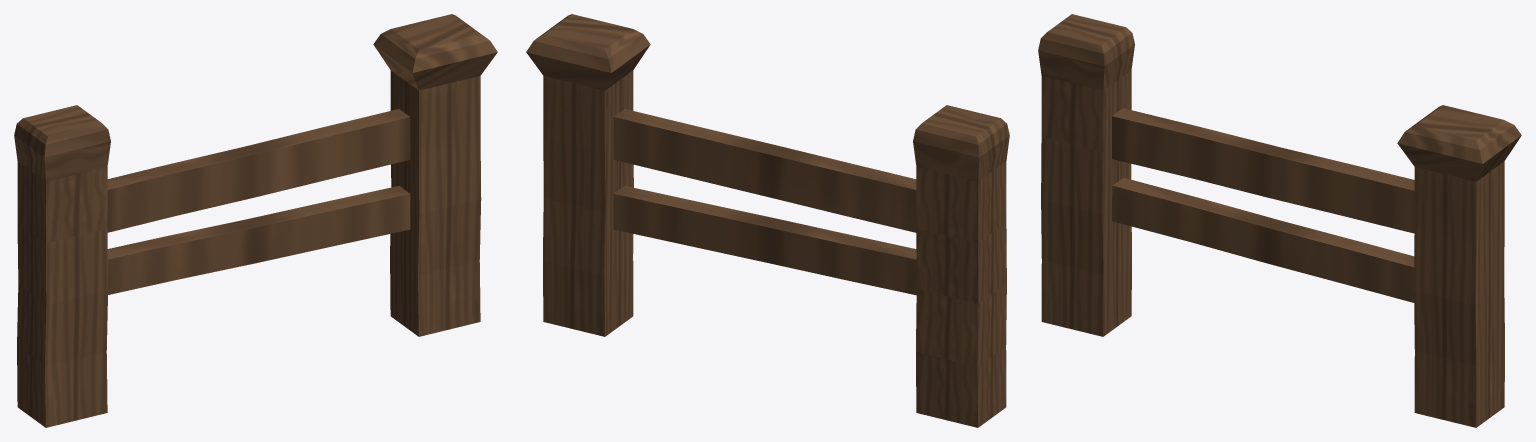
Rendered from Fence.fbx.
3 renders of one model, left to right at view 1: azimuth 30°, elevation 25°; view 2: azimuth 150°, elevation 25°; view 3: azimuth 330°, elevation 25°, orthographic.
Parts seen in each view (by area): view 1: Cube.003; view 2: Cube.003; view 3: Cube.003.
Boxes of the visible parts, left/top/right/bottom form: Cube.003: left=14, top=14, right=497, bottom=427; Cube.003: left=526, top=14, right=1009, bottom=427; Cube.003: left=1038, top=14, right=1521, bottom=427.
Bounding box in the file's own units: 2.17 × 1.34 × 0.3283.
Materials: 1 (1 with a texture image).
